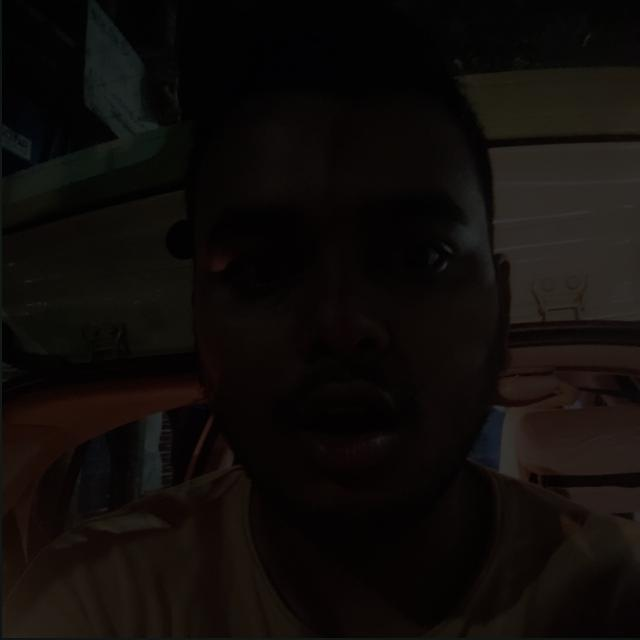surprised: (159, 77, 529, 484)
